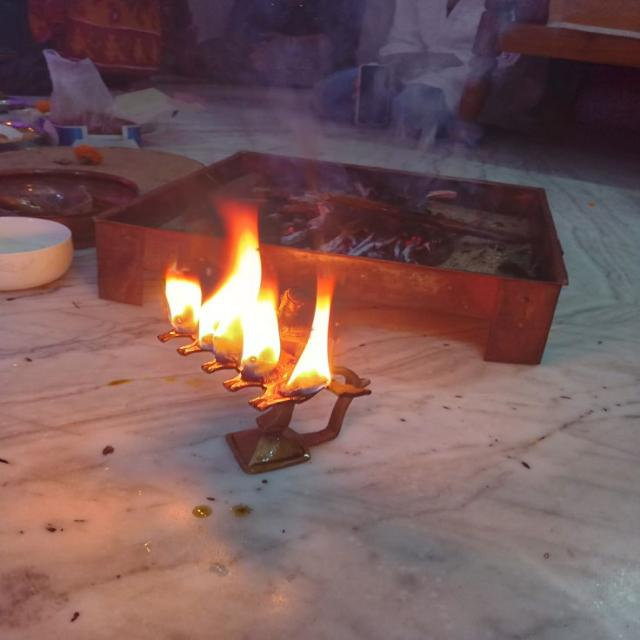fire: (200, 198, 262, 348), (283, 269, 332, 393), (239, 291, 281, 377), (164, 270, 203, 334)
